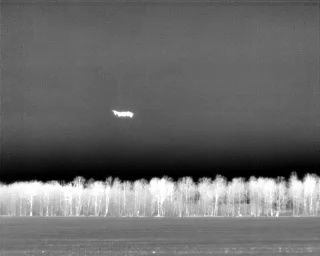DRONE: (108, 105, 137, 122)
